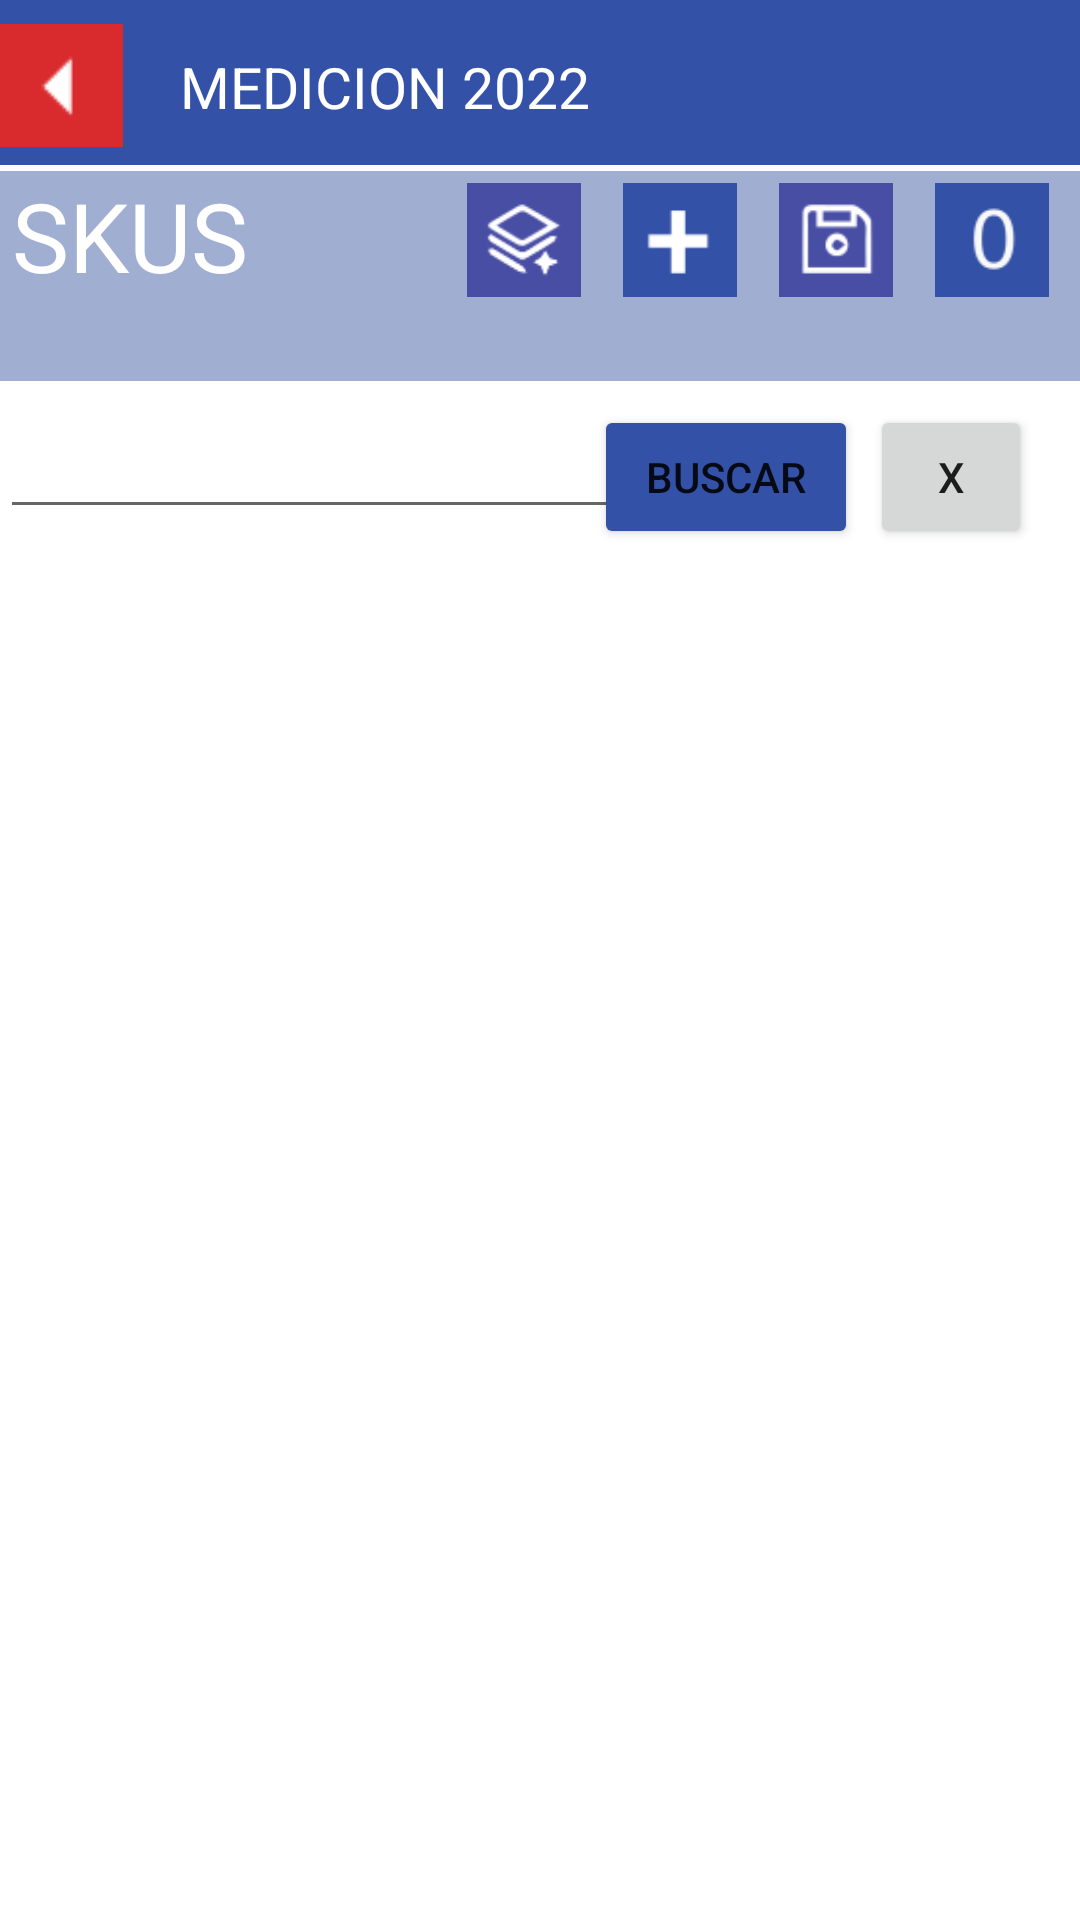

Screen size 1080 × 1920. Icon name, then its box in pixels as (x1, y1, x2, y2):
agregar: (623, 183, 737, 297)
atras: (0, 24, 123, 147)
guardar: (779, 183, 893, 297)
